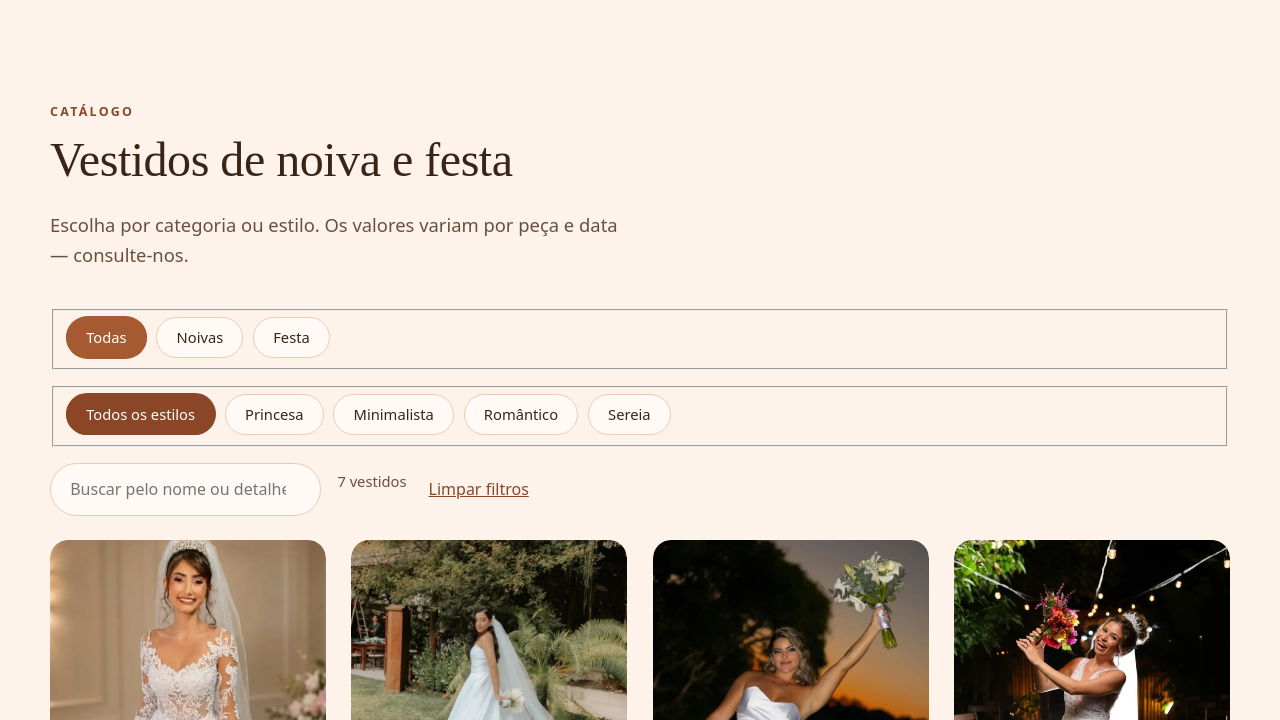
Test: CatalogPage (integração) › filtra por categoria e busca, e mostra estado vazio
Click the button "Festa" at (291, 337), box 253,317 -> 330,358
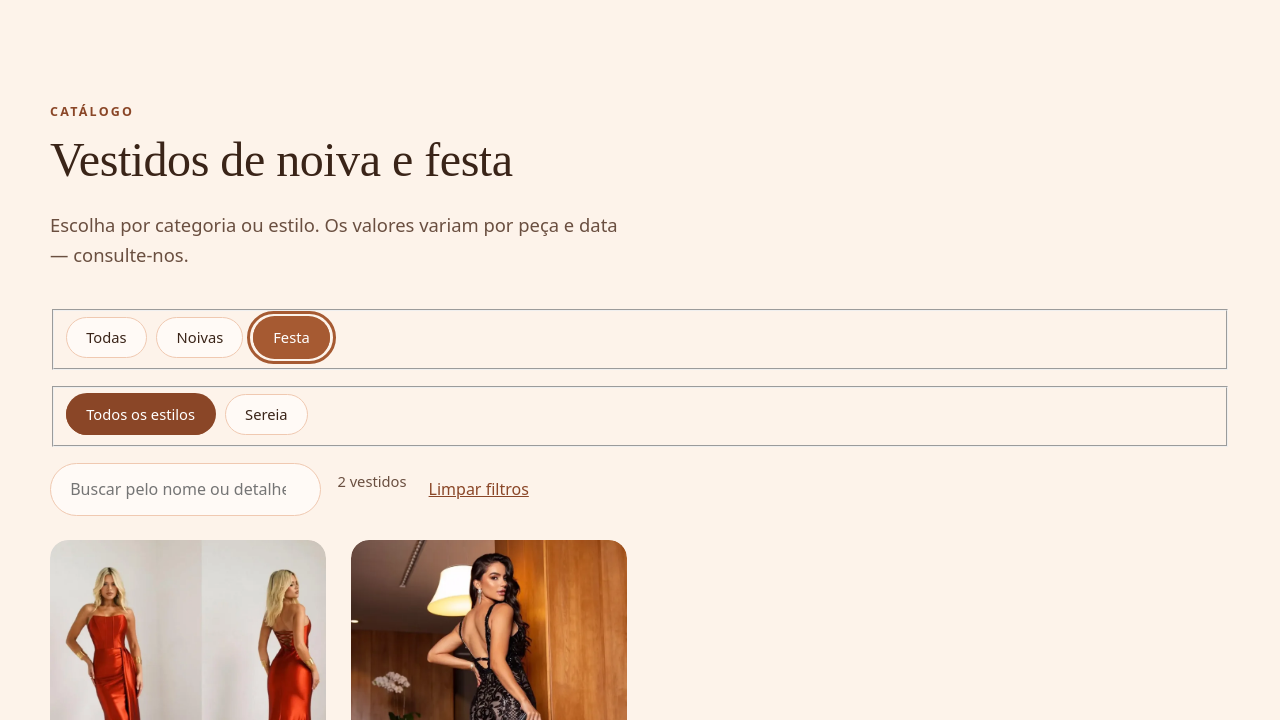
Expected: the text "2 vestidos" is shown, 337,470 -> 407,494
Type "zzzz" into the search field at (186, 489), box 50,463 -> 321,516
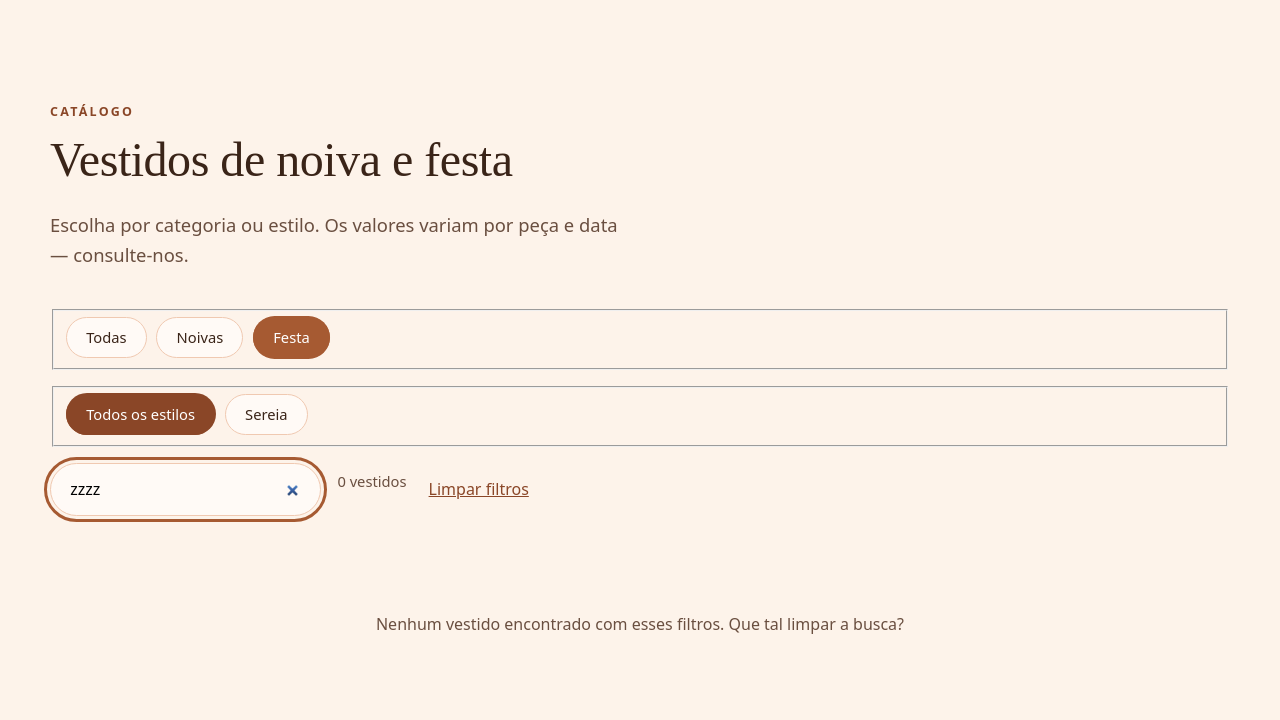
Expected: the text "Nenhum vestido encontrado" is shown, 376,613 -> 904,635
Click the button "Limpar filtros" at (479, 489), box 423,476 -> 535,503
(page scrolled)
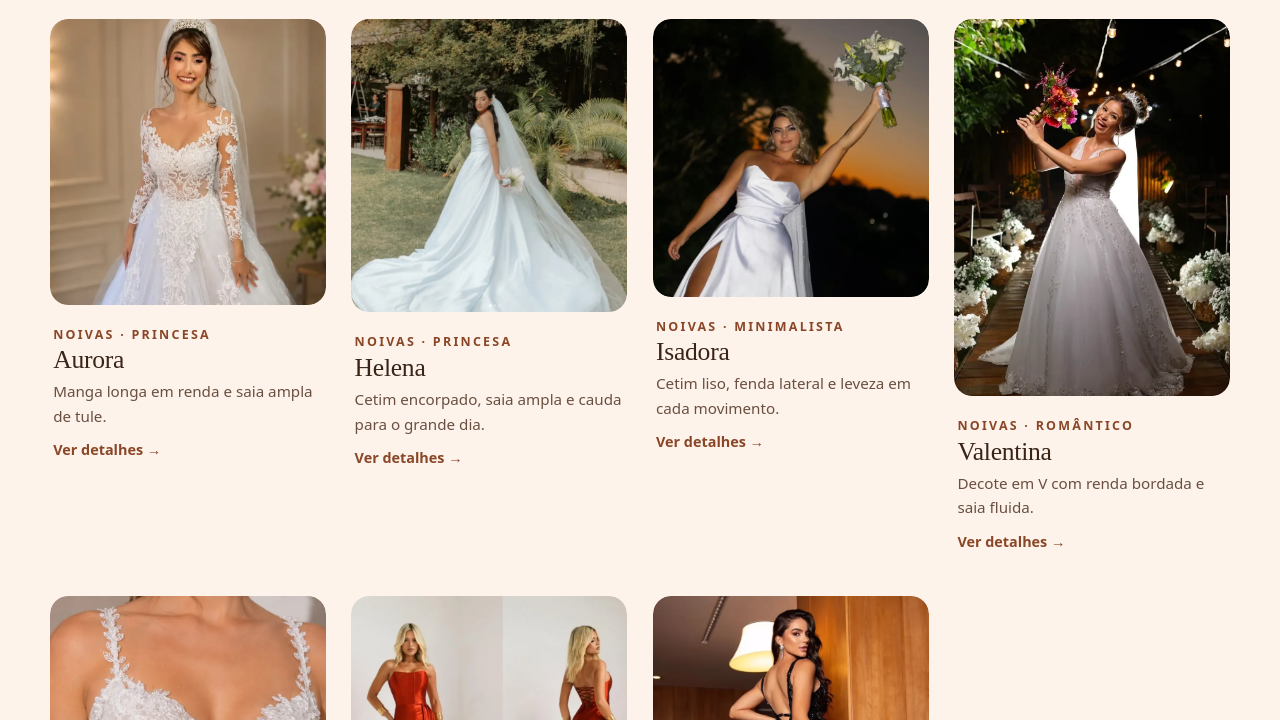
Expected: the heading "Aurora" is shown, 53,345 -> 124,374
